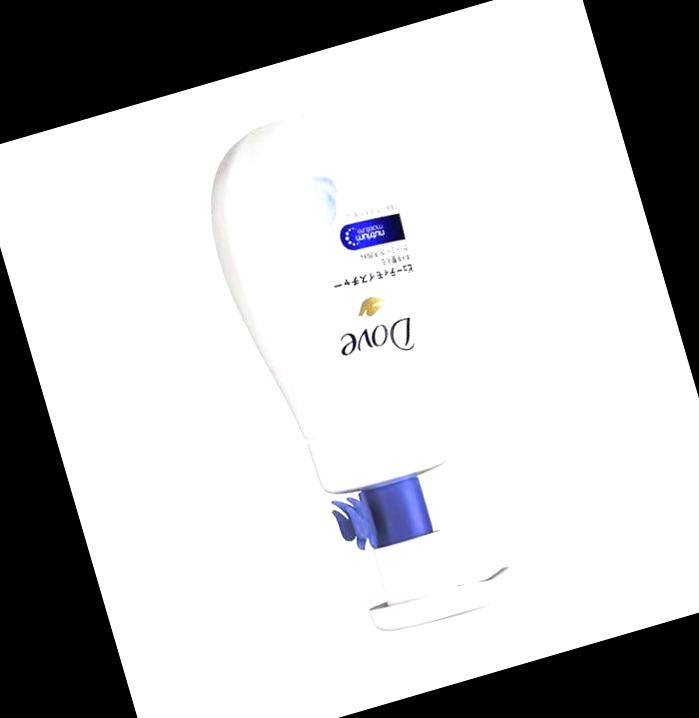cosmetic: (179, 83, 535, 656)
